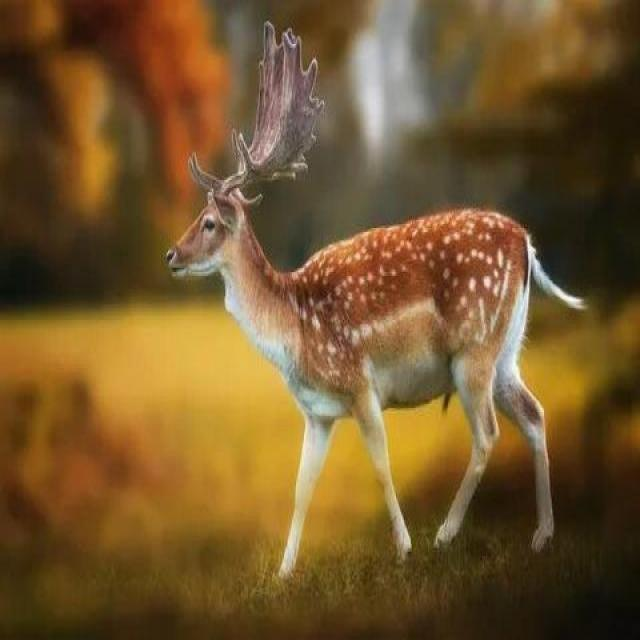deer: (127, 33, 582, 500)
